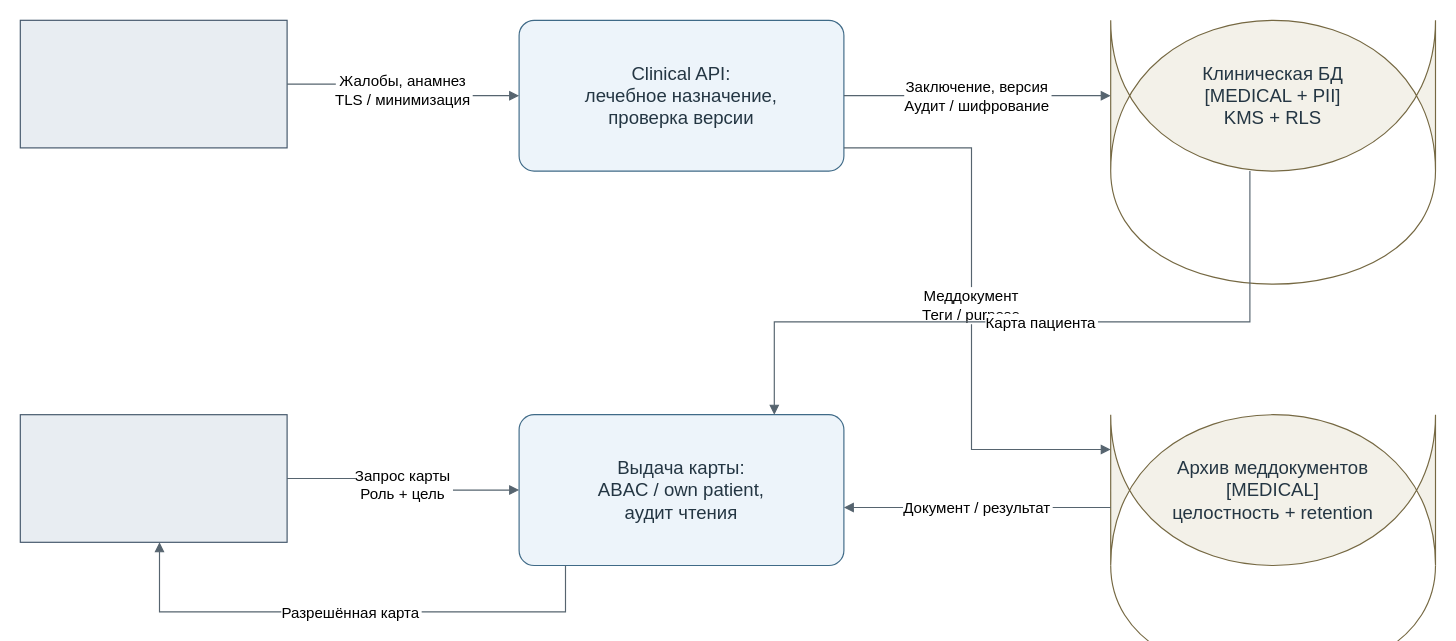
This 1456x641 diagram has some shape labels left out. Here are the shapes that lost their labels. From the top down, the box of each, then its label:
(19, 19, 287, 148): Пациент / врач
(19, 414, 287, 542): Врач / пациент
